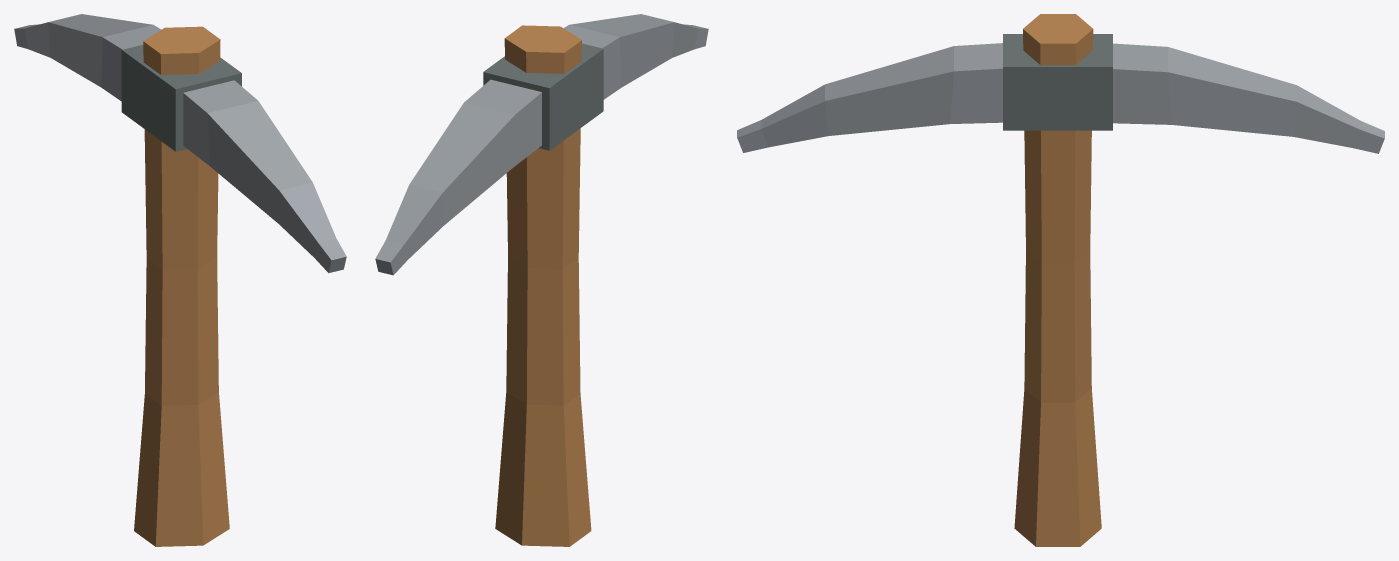
The model's file is toolsPickaxe.fbx.
3 renders of one model, left to right at view 1: azimuth 30°, elevation 25°; view 2: azimuth 150°, elevation 25°; view 3: azimuth 270°, elevation 25°, orthographic. The views are drawn at different scales.
Visible parts, largest first — view 1: Cube.001; view 2: Cube.001; view 3: Cube.001.
Boxes of the visible parts, left/top/right/bottom form: Cube.001: left=14, top=14, right=346, bottom=546; Cube.001: left=375, top=14, right=708, bottom=546; Cube.001: left=737, top=14, right=1384, bottom=546.
Size of the model in its own units: 14.28 by 90.13 by 106.
